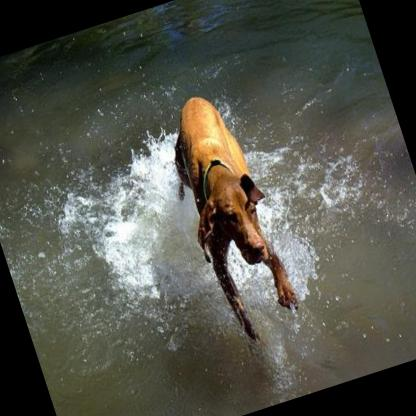vizsla: (146, 80, 312, 366)
